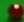brown: (0, 0, 24, 22)
